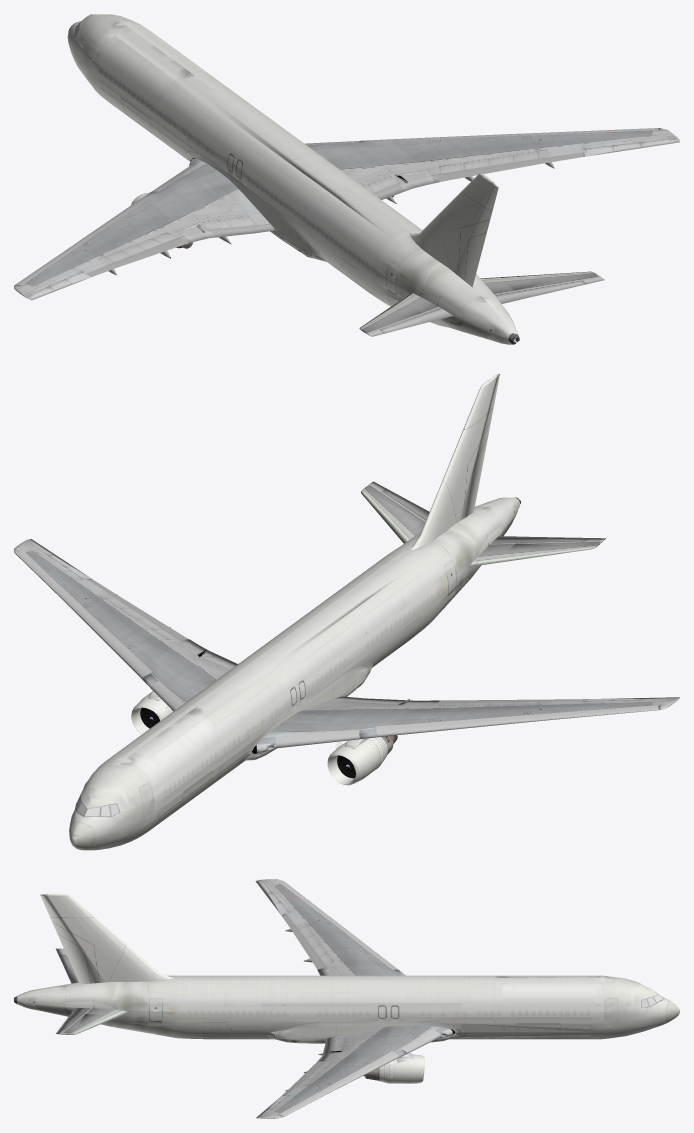
The picture shows the model from 3 angles, top to bottom: view 1: azimuth 30°, elevation 25°; view 2: azimuth 150°, elevation 25°; view 3: azimuth 270°, elevation 25°; orthographic projection. The views are drawn at different scales.
Visible parts, largest first — view 1: Fuselage_400, RWing_005, LWing_003, VStab_003, VRudder_001, RHStab_001, LHStab_003, fuselage_Windows-400, flap_ext_R_001, LFflapwing2_001, flapl_001, RFflapwing2_001 (+5 smaller); view 2: Fuselage_400, RWing_005, LWing_003, VStab_003, LFflapwing2_001, LHStab_003, RFflapwing2_001, RHStab_001, VRudder_001, fuselage_Windows-400, LCapaturbofan_009, LFflapwing1_001; view 3: Fuselage_400, RWing_005, VStab_003, LWing_003, VRudder_001, fuselage_Windows-400, RFflapwing2_001, RHStab_001, RCapaturbofan_008, LFflapwing2_001, flap_ext_L_001, RCapaturbofan_006.
Boxes of the visible parts, x1,y1,x2,y2 form: Fuselage_400: (67, 14, 519, 344); RWing_005: (306, 128, 679, 186); LWing_003: (14, 158, 275, 300); VStab_003: (408, 173, 493, 270); VRudder_001: (452, 184, 498, 287); RHStab_001: (480, 271, 604, 294); LHStab_003: (359, 293, 439, 336); fuselage_Windows-400: (100, 67, 378, 276); flap_ext_R_001: (438, 153, 583, 181); LFflapwing2_001: (15, 196, 152, 285); flapl_001: (196, 218, 270, 238); RFflapwing2_001: (376, 128, 658, 141); Fuselage_400: (69, 497, 520, 850); RWing_005: (14, 539, 227, 703); LWing_003: (252, 696, 679, 753); VStab_003: (410, 375, 495, 550); LFflapwing2_001: (376, 705, 658, 737); LHStab_003: (469, 538, 605, 567); RFflapwing2_001: (15, 550, 152, 678); RHStab_001: (361, 481, 425, 543); VRudder_001: (459, 375, 499, 521); fuselage_Windows-400: (164, 587, 442, 796); LCapaturbofan_009: (327, 741, 377, 785); LFflapwing1_001: (275, 730, 359, 748); Fuselage_400: (14, 975, 679, 1043); RWing_005: (256, 1025, 454, 1118); VStab_003: (47, 893, 174, 982); LWing_003: (255, 879, 405, 975); VRudder_001: (40, 895, 105, 984); fuselage_Windows-400: (173, 1011, 590, 1016); RFflapwing2_001: (279, 1051, 399, 1116); RHStab_001: (56, 1008, 129, 1034); RCapaturbofan_008: (397, 1054, 424, 1083); LFflapwing2_001: (279, 881, 398, 969); flap_ext_L_001: (282, 914, 325, 969); RCapaturbofan_006: (379, 1059, 397, 1083).
Size of what is drawn, in the model's own units: 51.78 by 15.47 by 61.06.
Materials: 23 (17 with a texture image).
